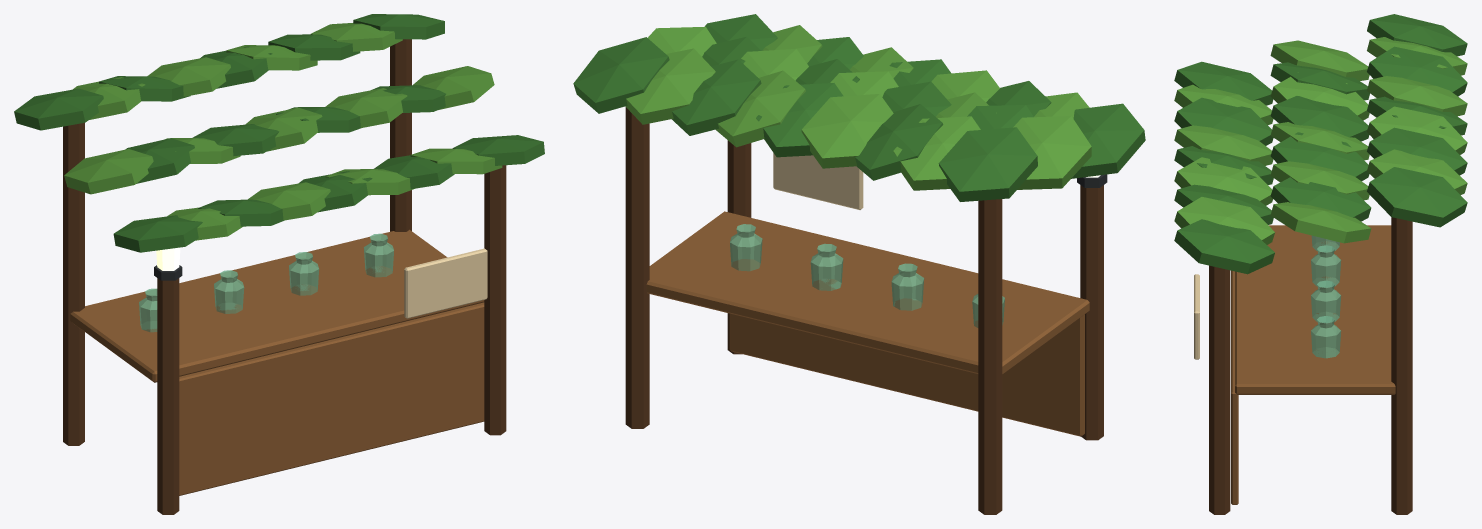
Rendered from for_stall_willow_v01.glb.
3 views of the same model, side by side, from view 1: azimuth 30°, elevation 25°; view 2: azimuth 150°, elevation 25°; view 3: azimuth 270°, elevation 25° (orthographic). The views are drawn at different scales.
Parts seen in each view (by area): view 1: stall_willow; view 2: stall_willow; view 3: stall_willow.
Part boxes in pixels (x1,y1,x2,y2): stall_willow: (14,14,544,514); stall_willow: (573,14,1145,514); stall_willow: (1174,14,1467,514).
Bounding box in the file's own units: 2.99 × 2.42 × 1.93.
